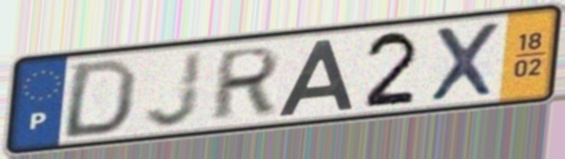2: (362, 29, 420, 110)
A: (274, 36, 357, 119)
D: (57, 56, 142, 141)
J: (140, 47, 207, 131)
R: (205, 43, 285, 124)
X: (426, 18, 503, 105)
